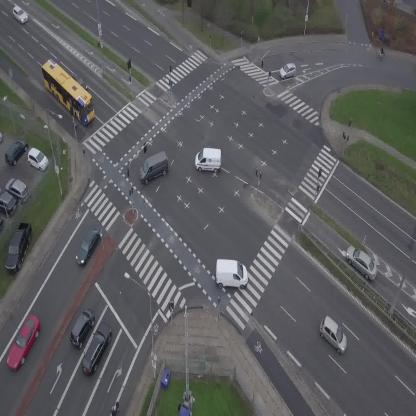bicycle: (374, 45, 387, 60), (110, 400, 120, 416)
bus: (33, 56, 104, 127)
car: (2, 313, 46, 373), (77, 320, 117, 378), (340, 242, 383, 283), (313, 315, 355, 356), (65, 306, 99, 351), (71, 225, 104, 267), (70, 71, 91, 93), (9, 4, 30, 25), (277, 62, 298, 80)
lorry: (134, 151, 174, 186), (216, 259, 248, 289), (194, 147, 223, 174)
